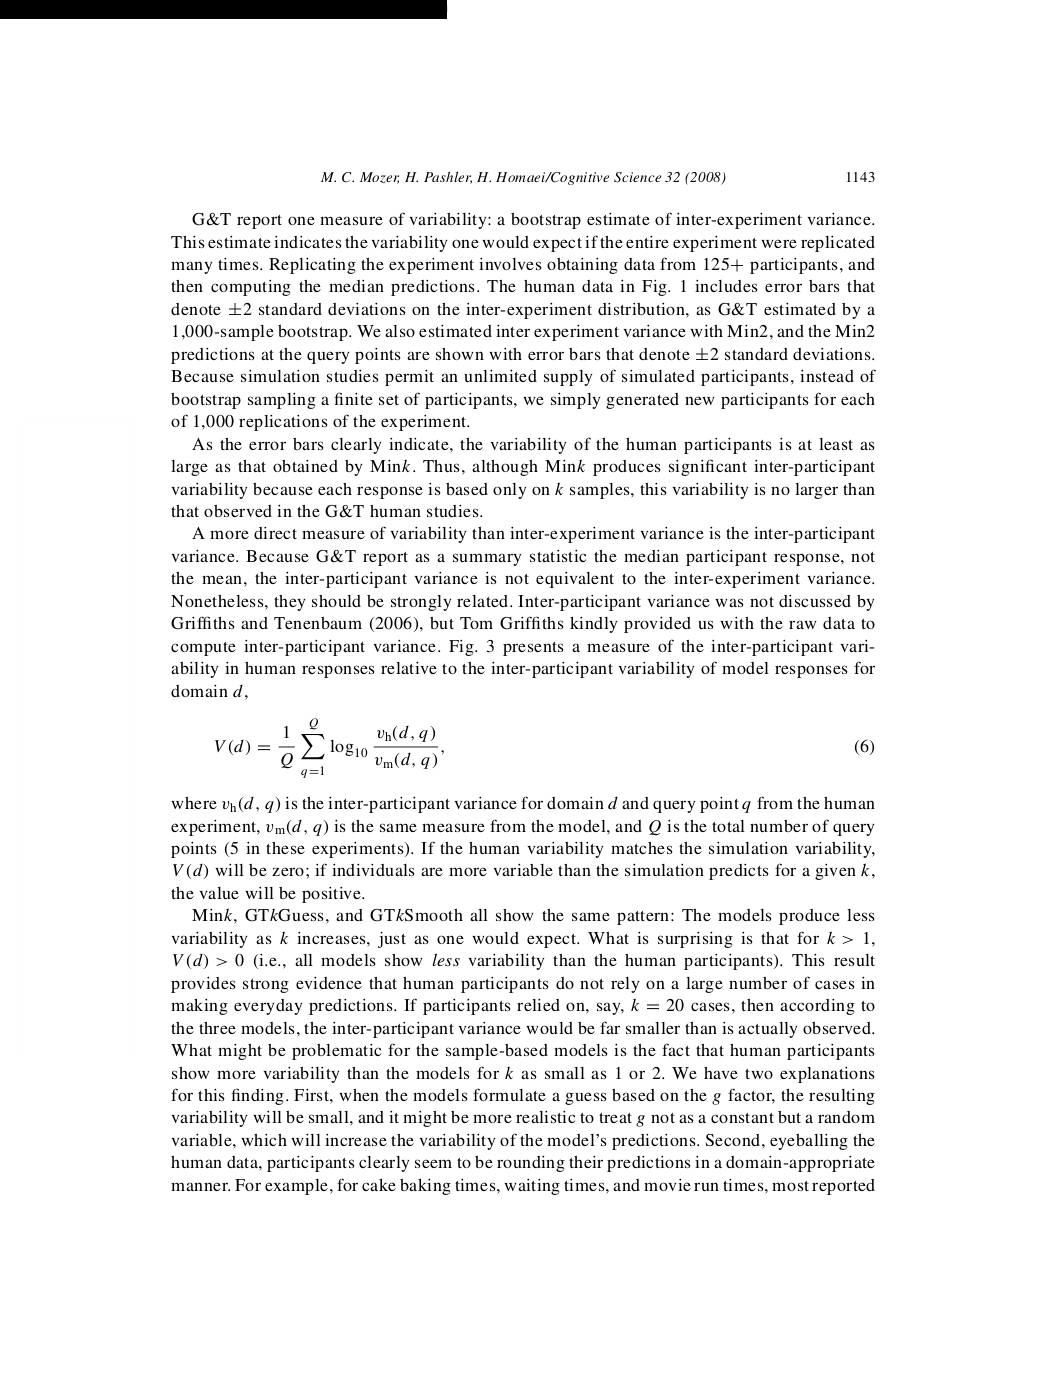formula: (215, 717, 874, 778)
